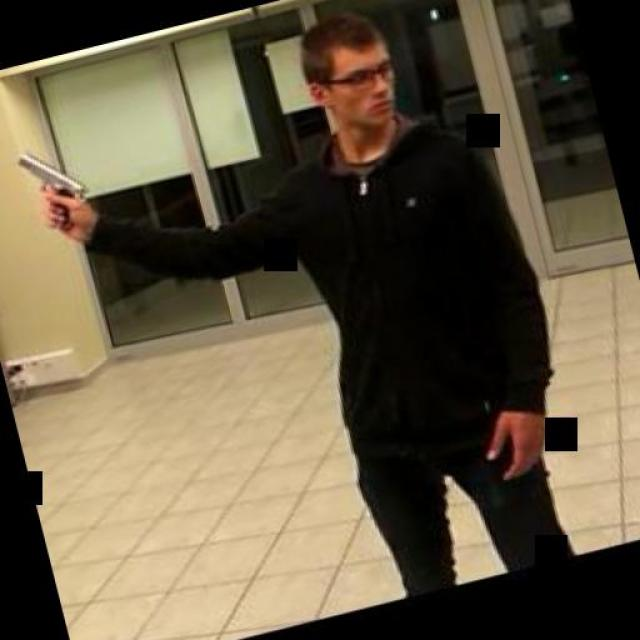gun: (10, 134, 104, 241)
